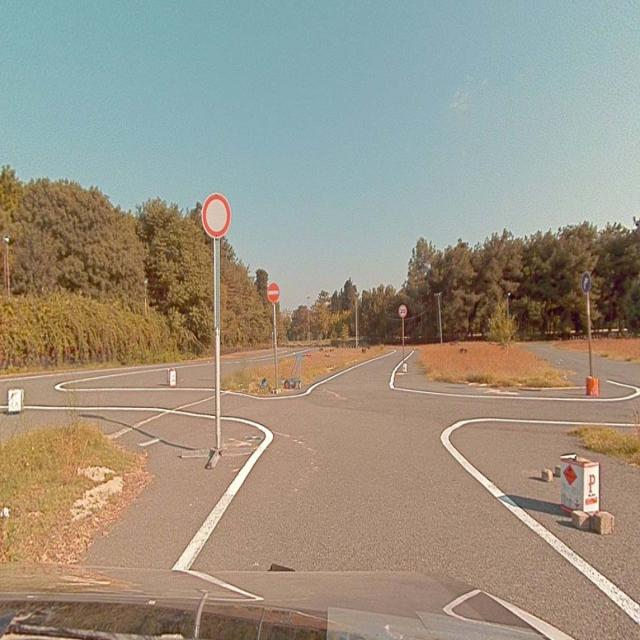20: (399, 305, 407, 317)
girisyok: (267, 284, 280, 303)
sag: (582, 272, 590, 292)
